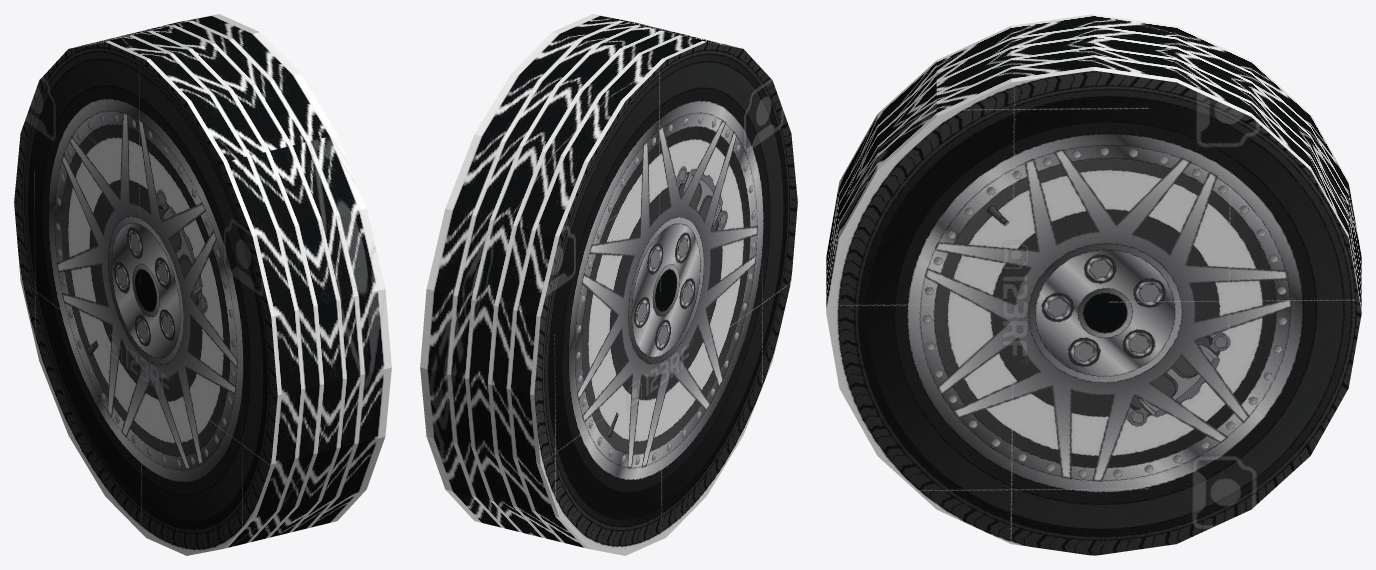
Rendered from llantita.obj.
3 views of the same model, side by side, from view 1: azimuth 30°, elevation 25°; view 2: azimuth 150°, elevation 25°; view 3: azimuth 270°, elevation 25° (orthographic).
Visible parts, largest first — view 1: llantita; view 2: llantita; view 3: llantita.
Boxes of the visible parts, x1,y1,x2,y2 form: llantita: (14,14,391,555); llantita: (420,14,797,555); llantita: (826,14,1361,555).
Bounding box in the file's own units: 0.5 × 2 × 2.
